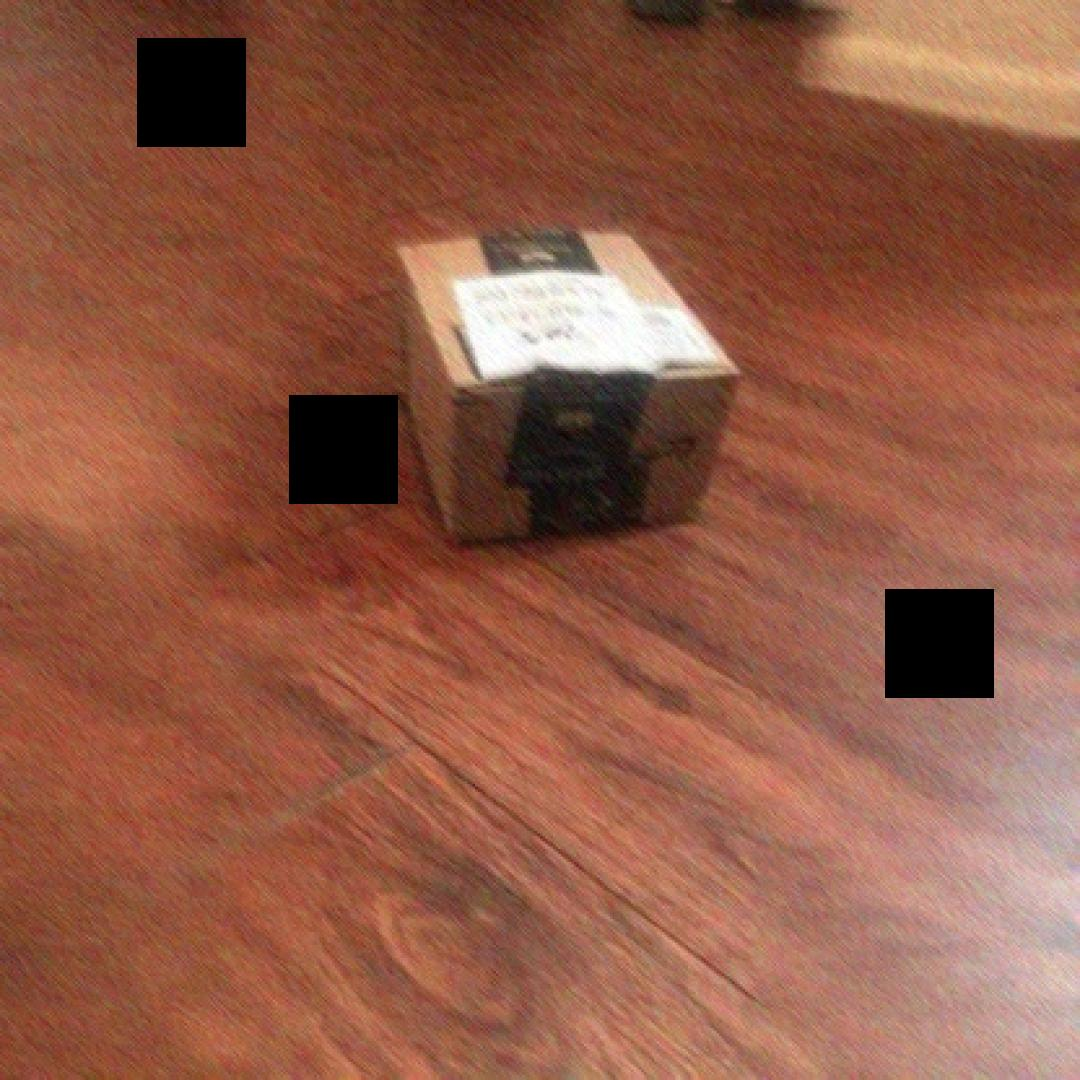package: (368, 228, 758, 561)
